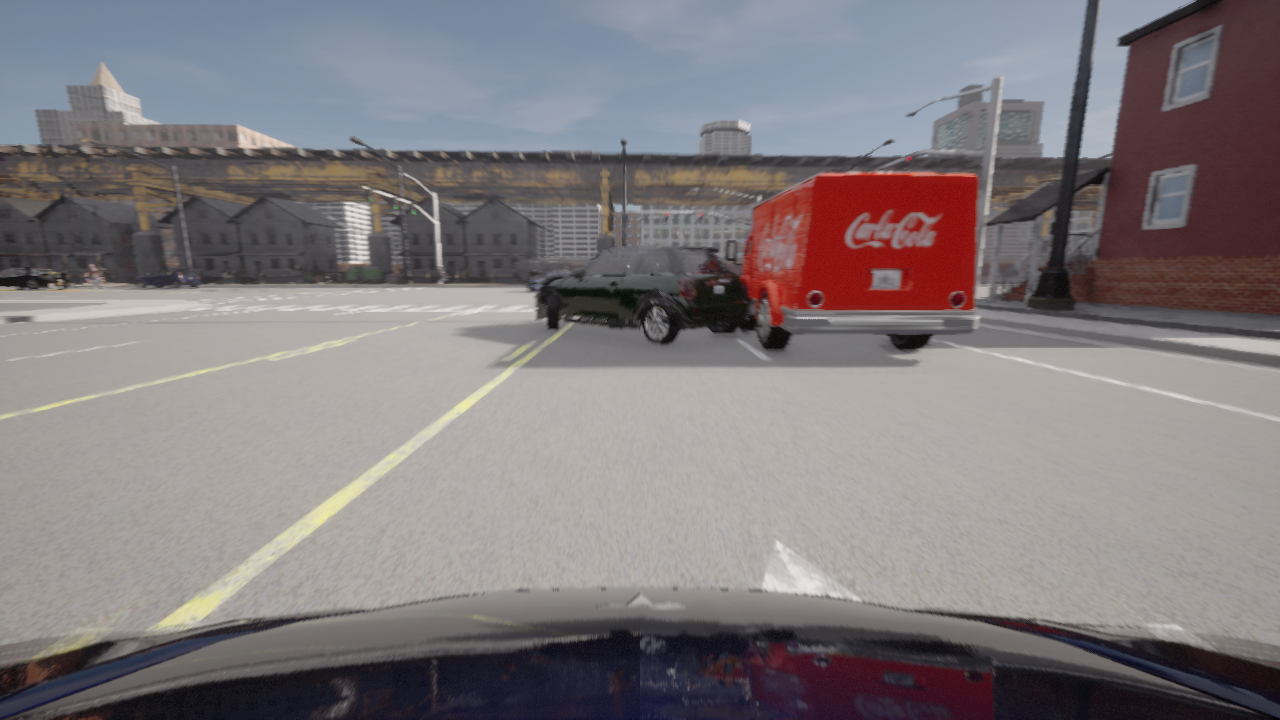cyclist: (0, 588, 1279, 719), (727, 173, 979, 349), (534, 241, 748, 344), (514, 257, 570, 284), (0, 268, 71, 289), (134, 268, 200, 288), (527, 270, 573, 291), (81, 275, 103, 287), (439, 270, 450, 284), (740, 275, 741, 277)
